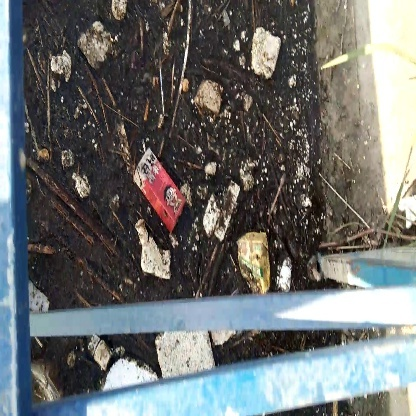milk-box: (132, 145, 189, 228)
